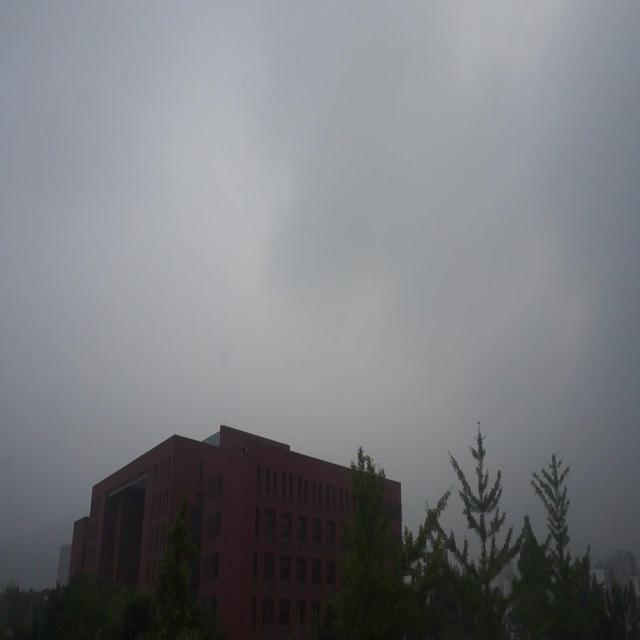drone: (238, 437, 251, 458)
